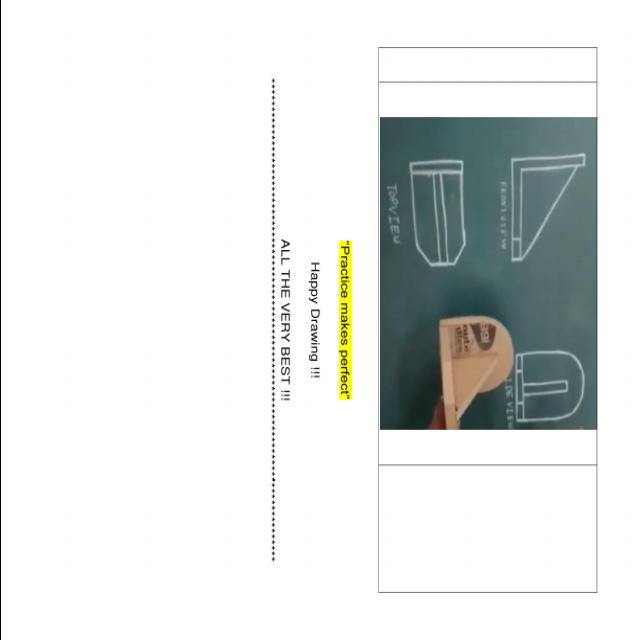Drawings: (506, 142, 590, 272), (408, 156, 468, 274), (513, 344, 587, 428)
